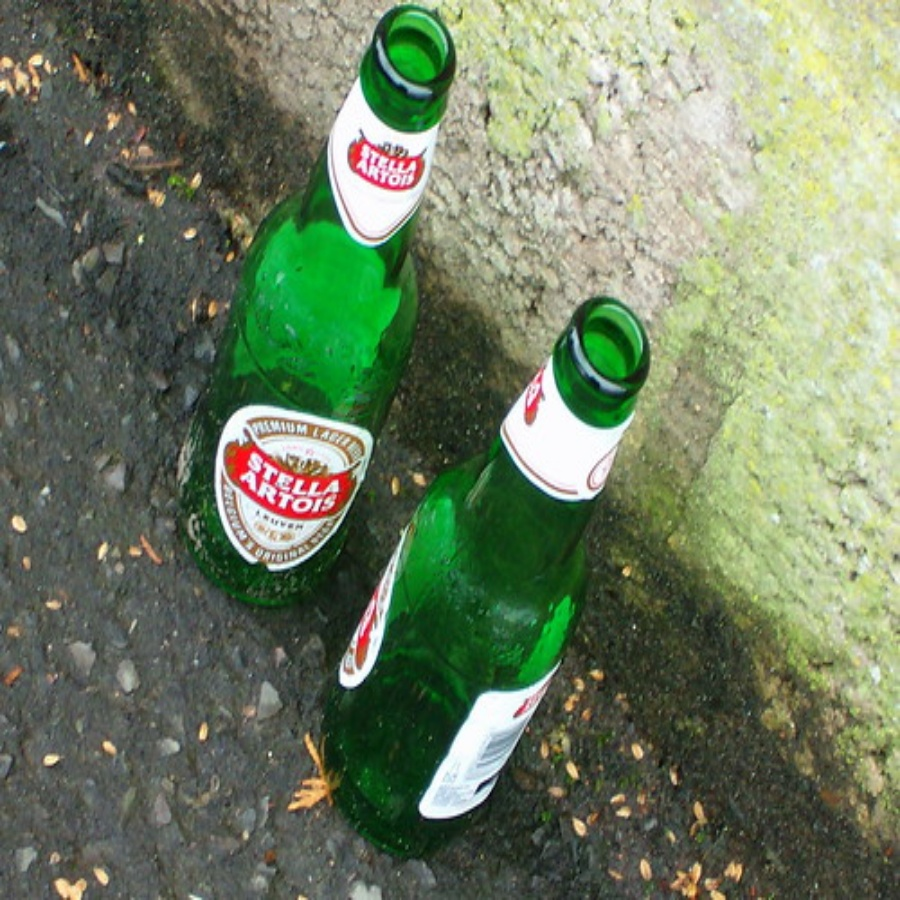beer: (312, 311, 626, 850), (176, 20, 417, 598)
